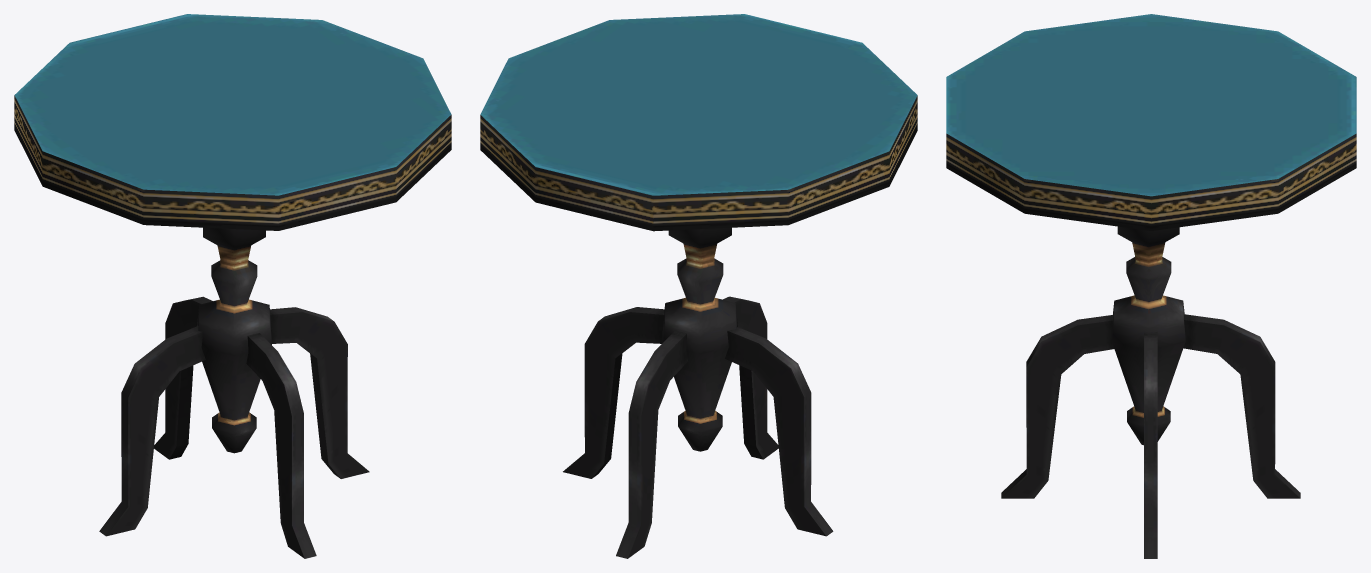
Rendered from furni_0200308_02.FBX.
3 renders of one model, left to right at view 1: azimuth 30°, elevation 25°; view 2: azimuth 150°, elevation 25°; view 3: azimuth 270°, elevation 25°, orthographic.
Visible parts, largest first — view 1: furni_0200308_02; view 2: furni_0200308_02; view 3: furni_0200308_02.
Boxes of the visible parts, bbox=[...] form: furni_0200308_02: bbox=[14, 14, 451, 558]; furni_0200308_02: bbox=[480, 14, 917, 558]; furni_0200308_02: bbox=[946, 14, 1356, 558].
Size of the model in its own units: 80 by 79.74 by 76.08.
